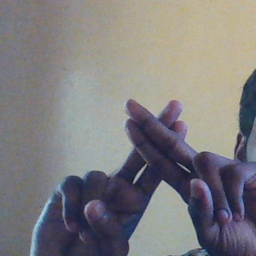F: (85, 89, 235, 226)
